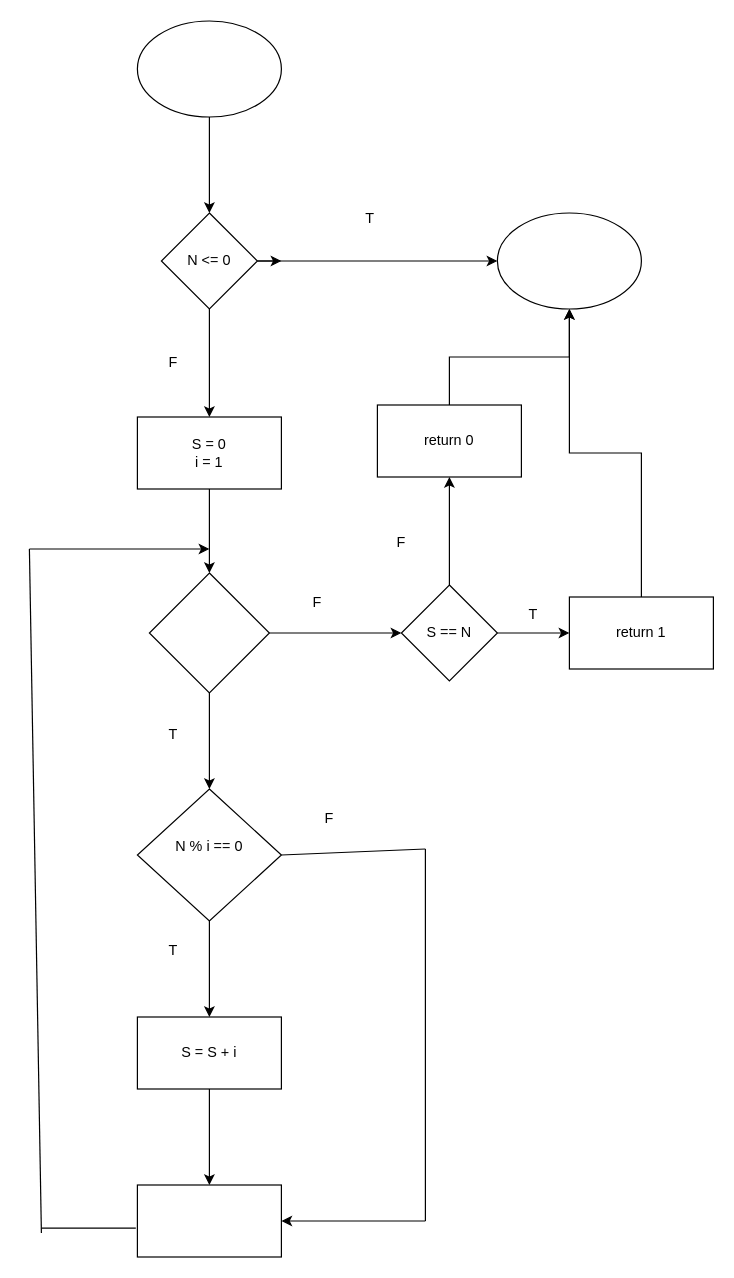
Image size: 734x1278. Some labels were removed from this diagram. The shapes that lost their labels are listed below. From the top down, each one's centre as x and y in pixels, then its label:
At point 208,68: "START".
At point 568,260: "END".
At point 208,632: "i <= N / 2".
At point 208,1220: "i = i + 1".
